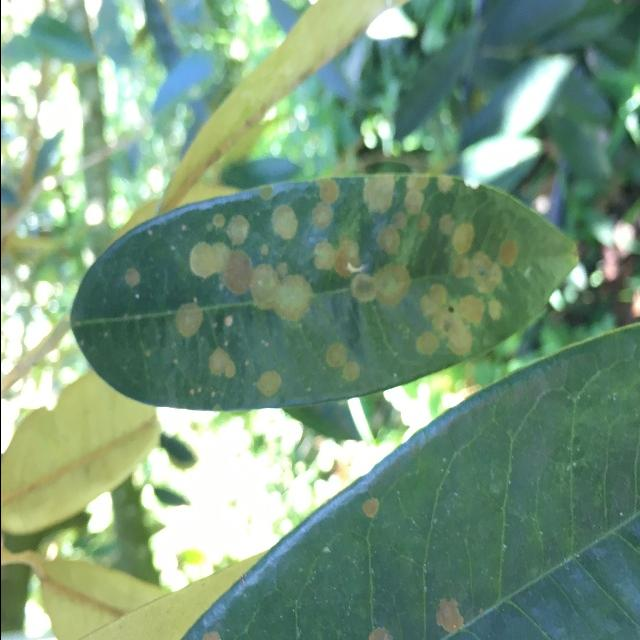Algal Leaf Spot: (61, 167, 592, 418)
